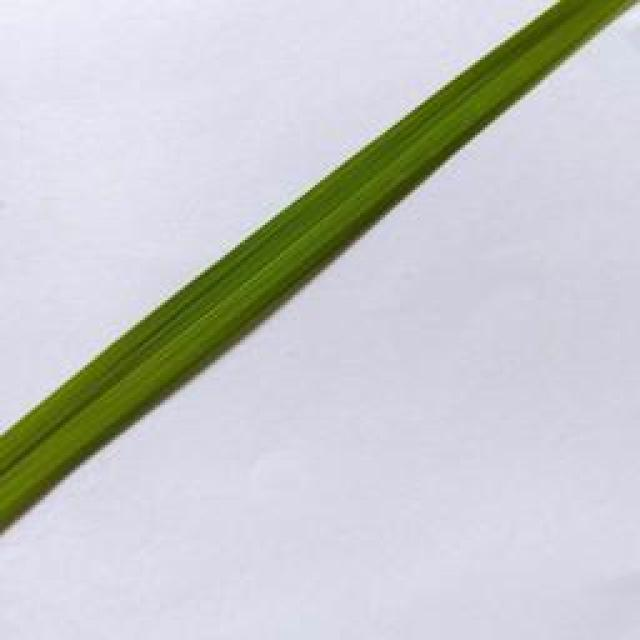Healthy-Plant: (0, 0, 640, 534)
